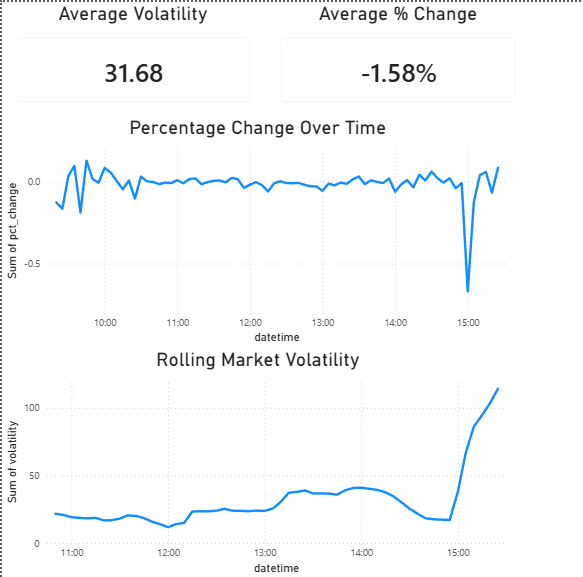

The dashboard page shown, as its layout file describes it:
{"tool":"powerbi","page":{"name":"Volatility Analysis","canvas":[1280,720],"ordinal":2},"visuals":[{"type":"lineChart","title":"Percentage Change Over Time","fields":{"Category":["market_dashboard nifty_prices.datetime"],"Y":["Sum(market_dashboard nifty_prices.pct_change)"]},"box":[0,142.2,640,290],"z":0},{"type":"lineChart","title":"Rolling Market Volatility","fields":{"Category":["market_dashboard nifty_prices.datetime"],"Y":["Sum(market_dashboard nifty_prices.volatility)"]},"box":[0,432.2,640,287.8],"z":1000},{"type":"cardVisual","title":"Average Volatility","fields":{"Data":["Avg(market_dashboard nifty_prices.volatility)"]},"box":[0,0,327.8,142.2],"z":2000},{"type":"cardVisual","title":"Average % Change","fields":{"Data":["Avg(market_dashboard nifty_prices.pct_change)"]},"box":[331.1,0,327.8,142.2],"z":3000}]}

Visuals, with their boxes on the page's 1280x720 design canvas (x1, y1, x2, y2). These are canvas units, not pixel positions in the 583x577 screenshot, which may show the page scaled, cropped or inside an application window:
"Percentage Change Over Time" lineChart: (0,142,640,432)
"Rolling Market Volatility" lineChart: (0,432,640,720)
"Average Volatility" cardVisual: (0,0,328,142)
"Average % Change" cardVisual: (331,0,659,142)
